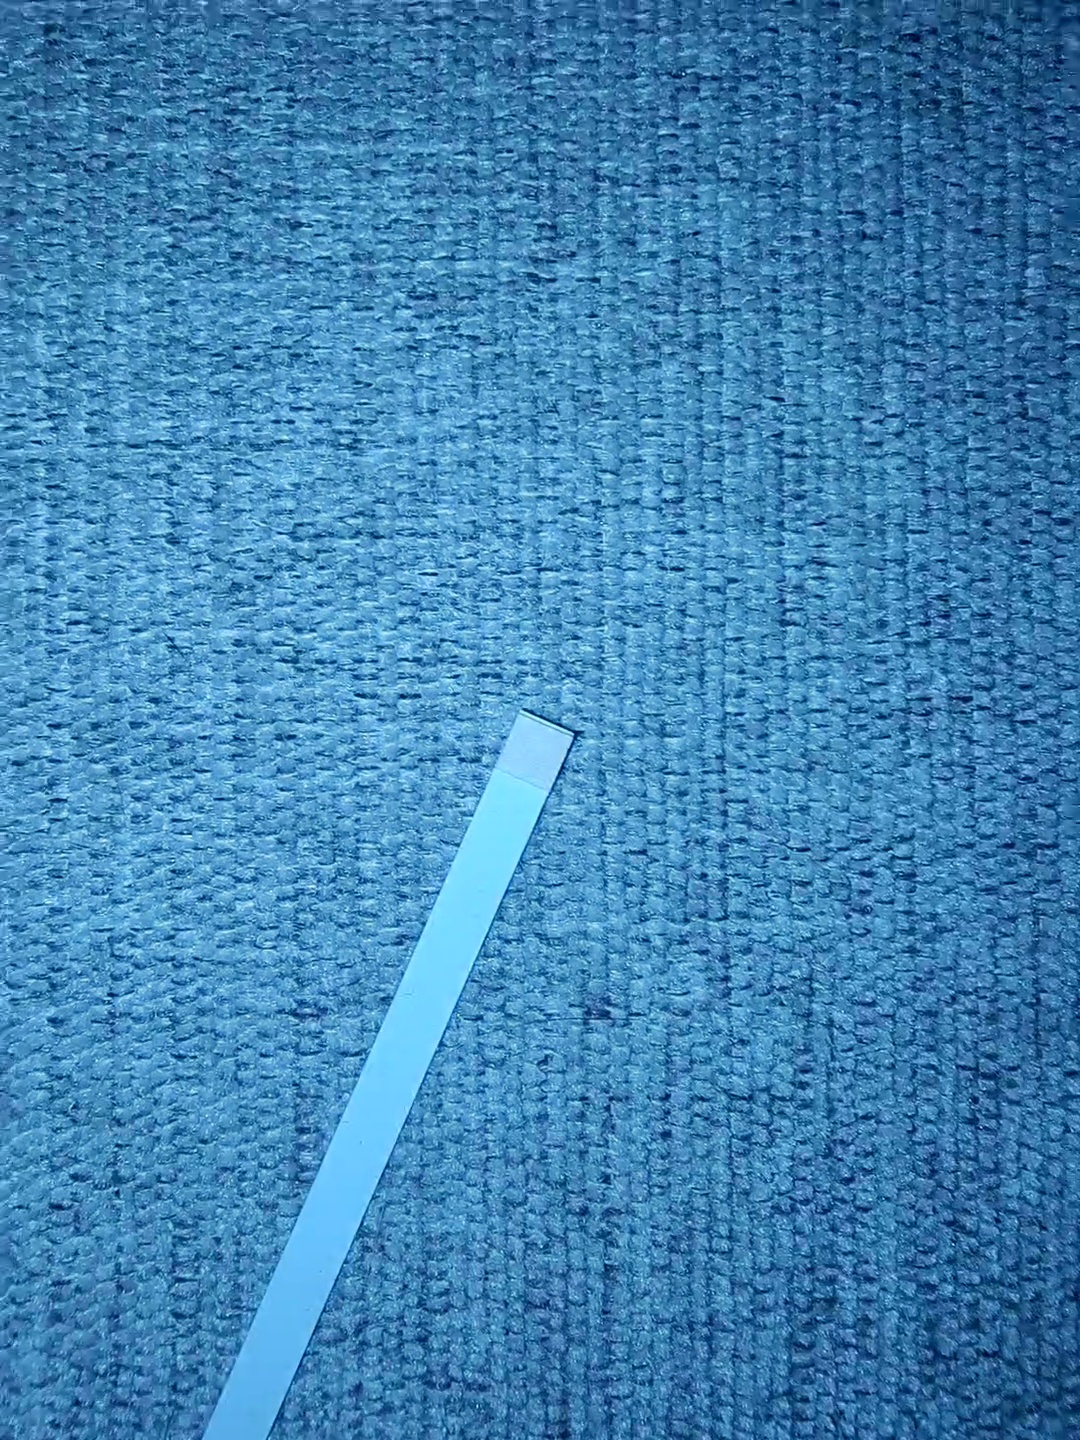keto-tip: (490, 708, 579, 794)
